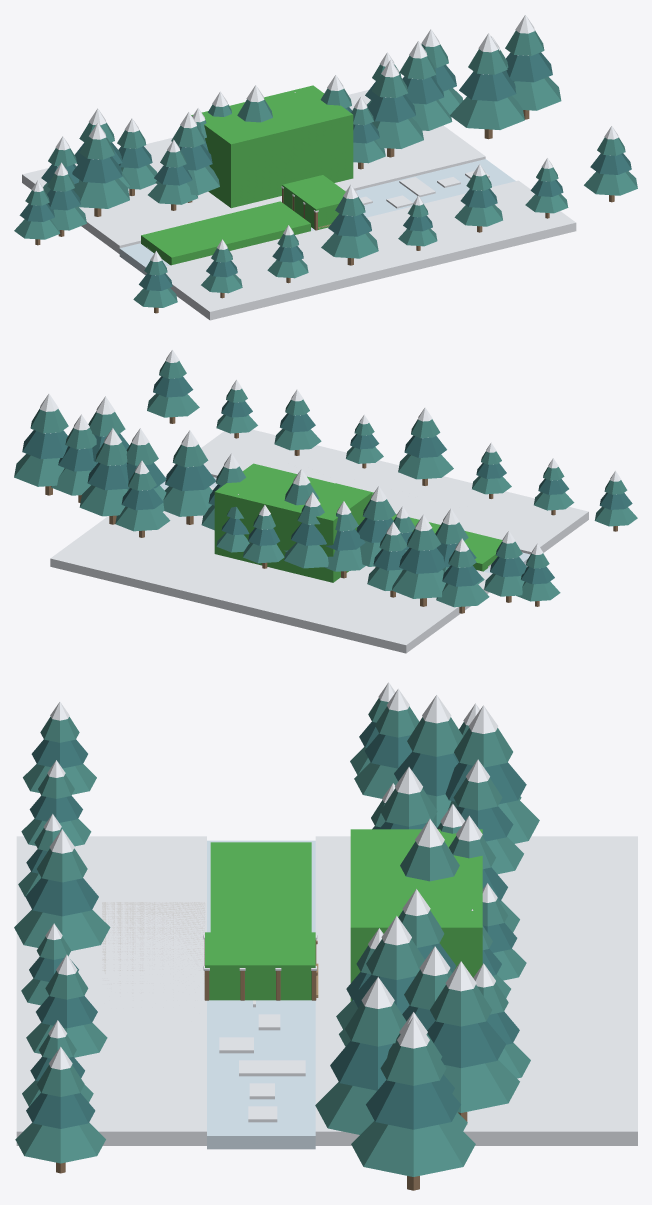
File: river_bridge.glb
3 views of the same model, one above another, from view 1: azimuth 30°, elevation 25°; view 2: azimuth 150°, elevation 25°; view 3: azimuth 270°, elevation 25° (orthographic). The views are drawn at different scales.
Parts seen in each view (by area): view 1: bank_near, pick_forest, bank_far, pick_river, water, pick_bridge, far19_pine0, far3_pine0, far19_pine1, far21_pine0, far15_pine0, far21_pine1 (+37 smaller); view 2: bank_far, bank_near, pick_forest, far4_pine0, far21_pine0, far15_pine0, far18_pine0, far21_pine1, near3_pine0, pick_river, far15_pine1, far16_pine0 (+42 smaller); view 3: bank_far, bank_near, water, pick_forest, pick_river, pick_bridge, far21_pine0, far21_pine1, nav_floor, near7_pine0, far18_pine0, far18_pine1 (+37 smaller).
Part boxes in pixels (box(x1,y1,x2,y2)): bank_near: box(166, 180, 576, 320); pick_forest: box(191, 85, 353, 208); bank_far: box(22, 90, 485, 253); pick_river: box(141, 201, 310, 265); water: box(119, 159, 515, 275); pick_bridge: box(282, 175, 345, 229); far19_pine0: box(450, 96, 524, 129); far3_pine0: box(73, 178, 129, 208); far19_pine1: box(459, 71, 516, 101); far21_pine0: box(512, 77, 561, 110); far15_pine0: box(372, 117, 423, 148); far21_pine1: box(506, 52, 552, 82); bank_far: box(50, 511, 491, 653); bank_near: box(201, 429, 588, 554); pick_forest: box(214, 463, 371, 582); far4_pine0: box(392, 569, 445, 598); far21_pine0: box(14, 454, 64, 486); far15_pine0: box(163, 486, 212, 516); far18_pine0: box(79, 485, 127, 516); far21_pine1: box(22, 430, 67, 459); near3_pine0: box(398, 454, 453, 479); pick_river: box(391, 514, 502, 571); far15_pine1: box(165, 464, 215, 491); far16_pine0: box(115, 506, 170, 531); bank_far: box(315, 836, 637, 1145); bank_near: box(16, 836, 206, 1145); water: box(207, 840, 315, 1149); pick_forest: box(350, 829, 482, 1001); pick_river: box(210, 842, 311, 932); pick_bridge: box(205, 932, 315, 1000); far21_pine0: box(351, 1121, 475, 1176); far21_pine1: box(366, 1080, 460, 1129); nav_floor: box(102, 902, 205, 1007); near7_pine0: box(15, 1122, 105, 1163); far18_pine0: box(443, 1060, 519, 1112); far18_pine1: box(427, 1021, 506, 1067).
Size of the model in its own units: 26.9 by 5.4 by 16.07.
